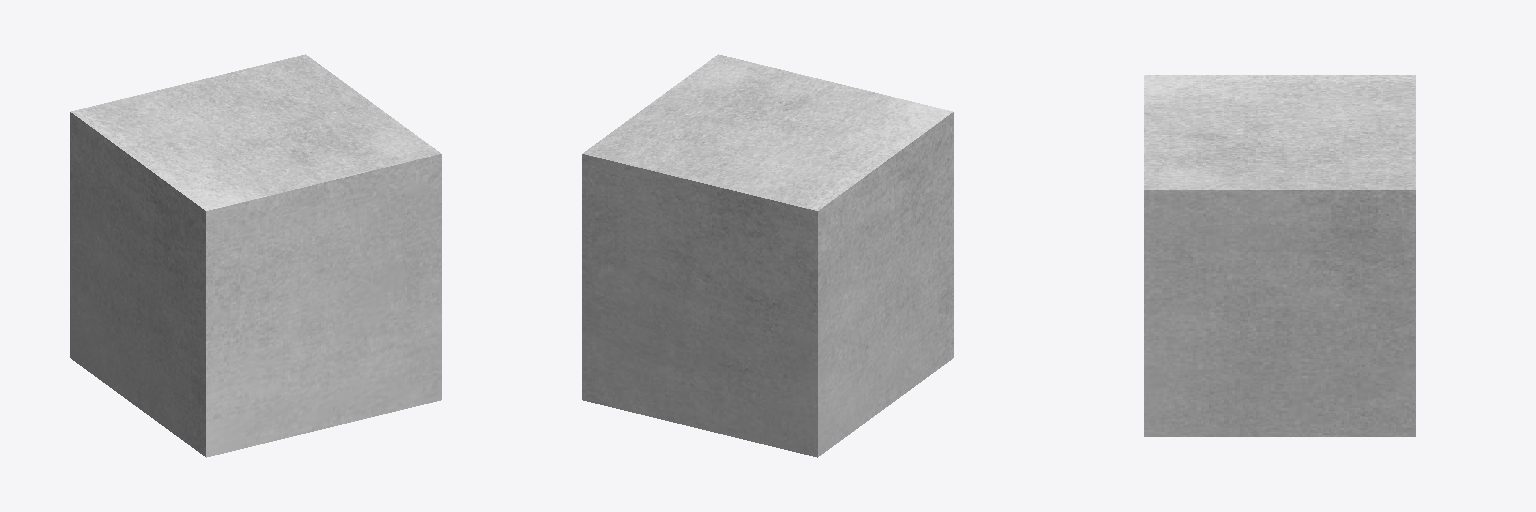
The picture shows the model from 3 angles: view 1: azimuth 30°, elevation 25°; view 2: azimuth 150°, elevation 25°; view 3: azimuth 270°, elevation 25°; orthographic projection.
Visible parts, largest first — view 1: Cube_Material; view 2: Cube_Material; view 3: Cube_Material.
Part boxes in pixels (left/top/right/bottom): Cube_Material: left=70, top=54, right=441, bottom=457; Cube_Material: left=582, top=54, right=953, bottom=457; Cube_Material: left=1144, top=75, right=1415, bottom=436.
Bounding box in the file's own units: 0.1 × 0.1 × 0.1.
Materials: 1 (1 with a texture image).